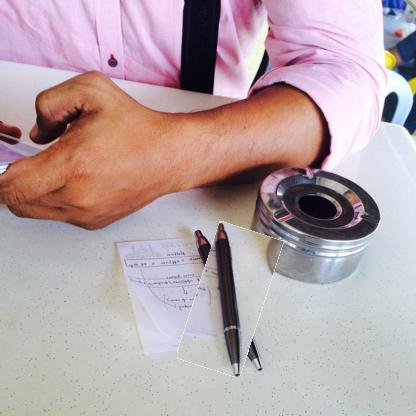Pen: (186, 224, 273, 375)
